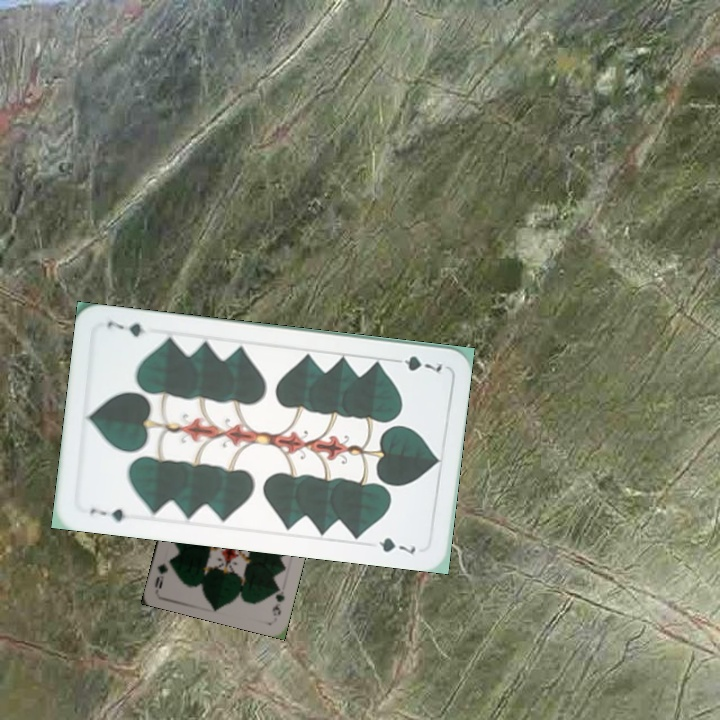G7: (387, 351, 445, 375), (86, 504, 129, 525)
G9: (268, 580, 287, 619)
